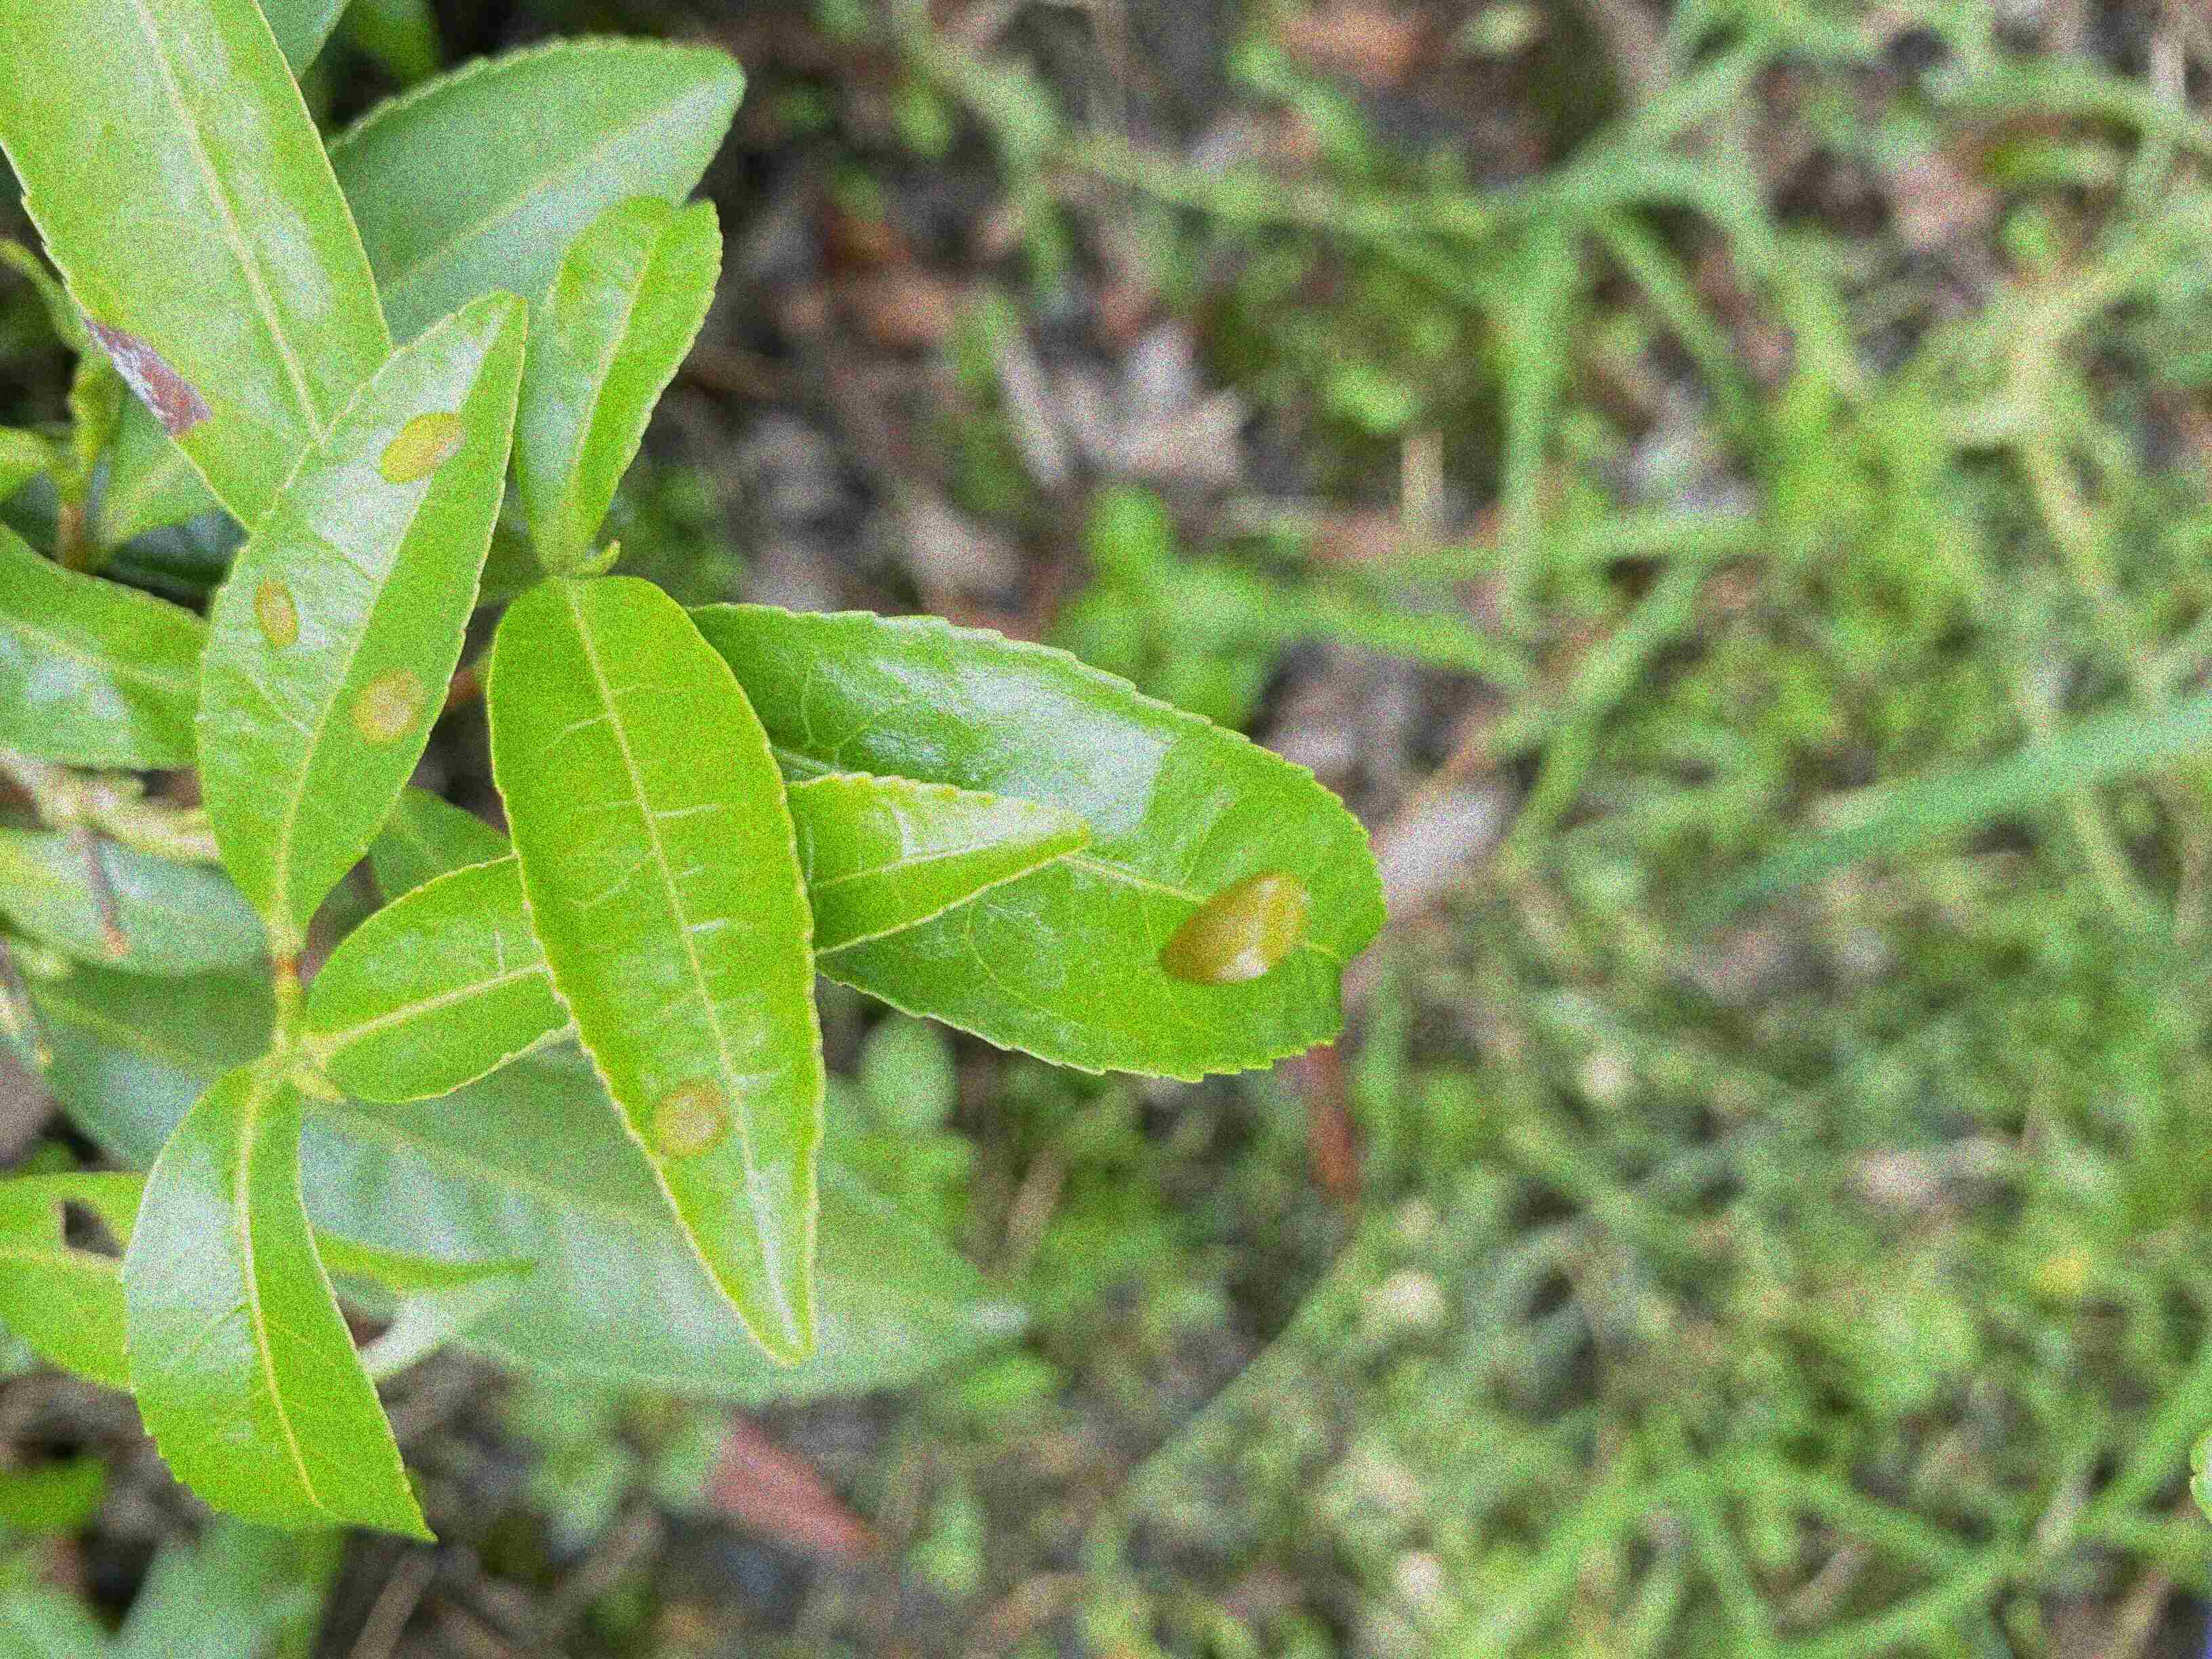chabing_high: (192, 295, 535, 951)
chabing_low: (482, 558, 824, 1368), (813, 603, 1385, 1086)
chihuo_high: (2, 1164, 538, 1389)
healthy: (312, 777, 1090, 1086), (120, 1042, 439, 1541), (516, 192, 721, 566)
tanju_low: (0, 3, 394, 542)
